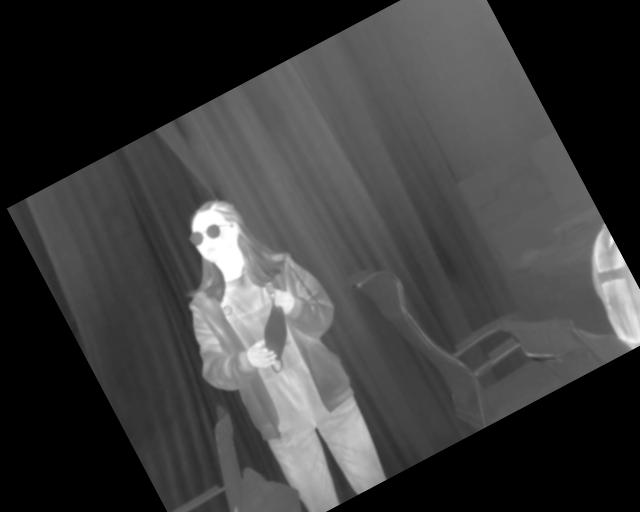face: (86, 174, 186, 297), (260, 147, 340, 243)
